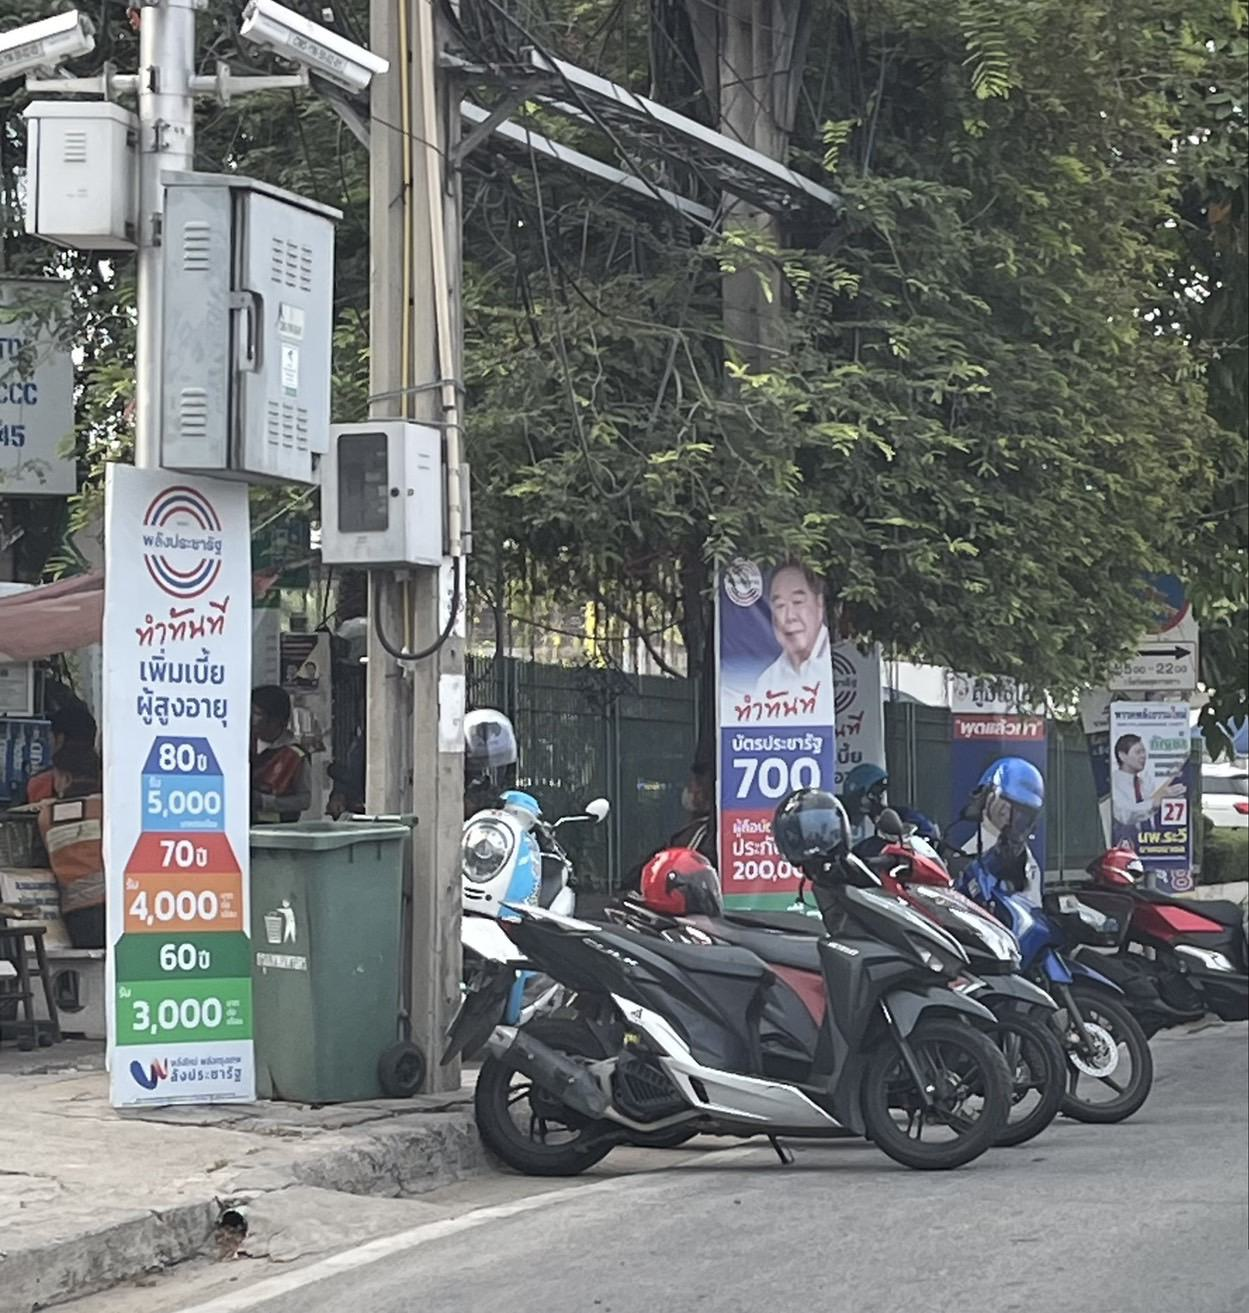Banner: (106, 472, 251, 1108), (713, 557, 834, 909)
